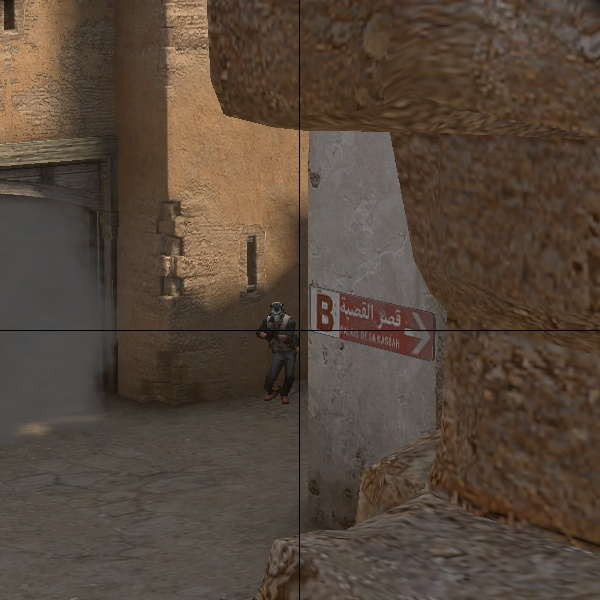ct_body: (249, 301, 305, 403)
